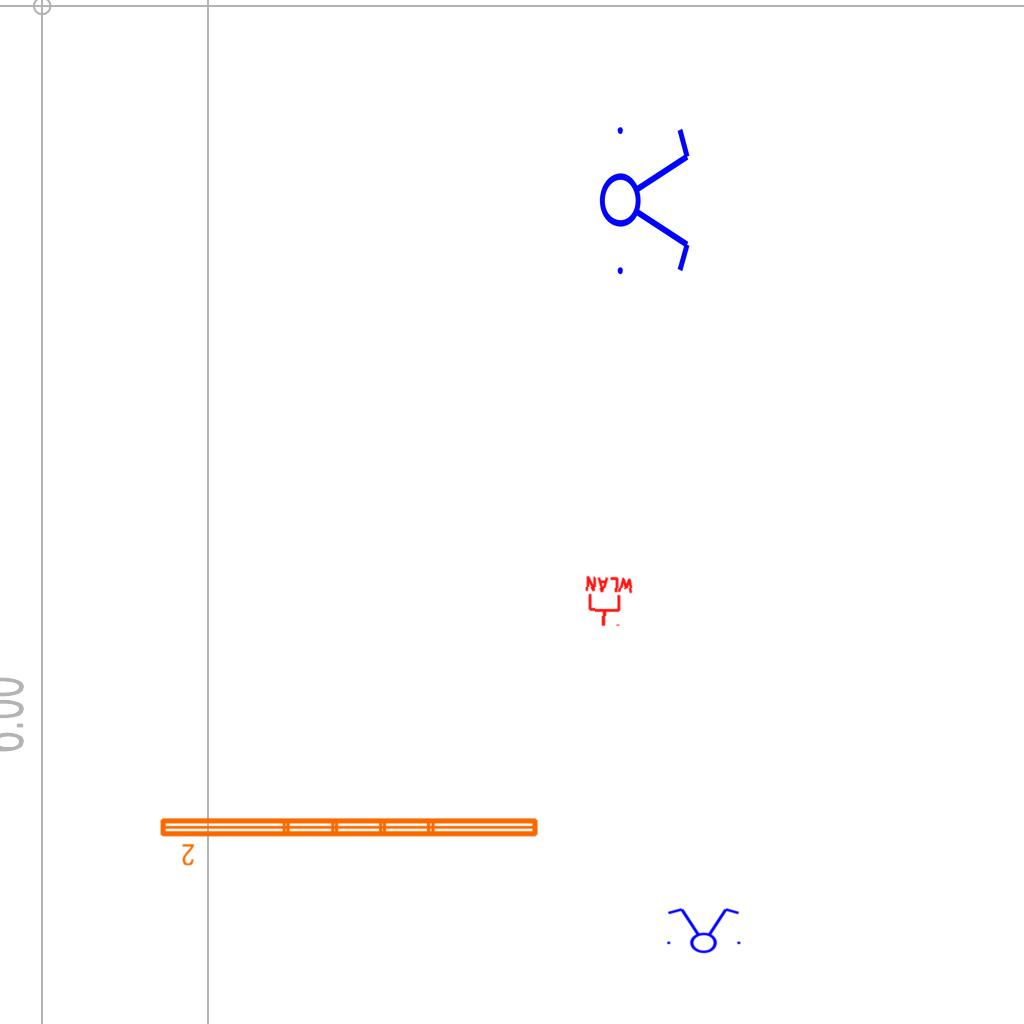Ambulanz_Pendelleuchte_LED: (156, 812, 543, 868)
Serienschalter: (598, 115, 694, 283), (661, 906, 745, 954)
WLAN: (582, 575, 636, 629)
